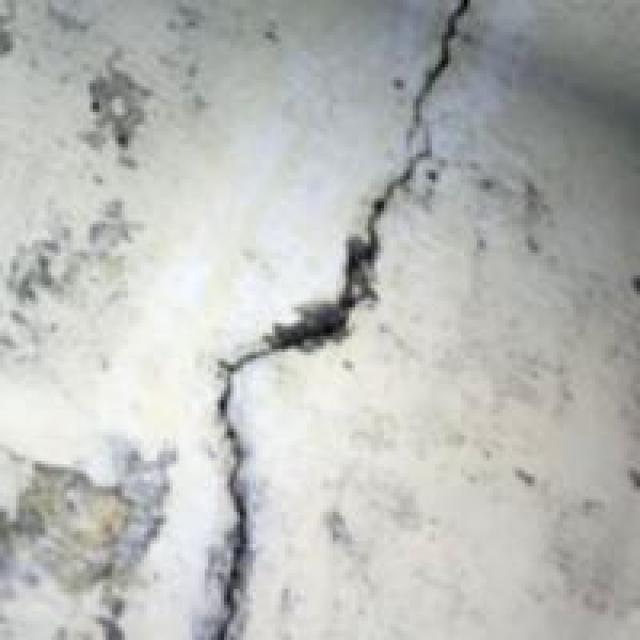Crack: (167, 3, 484, 637)
